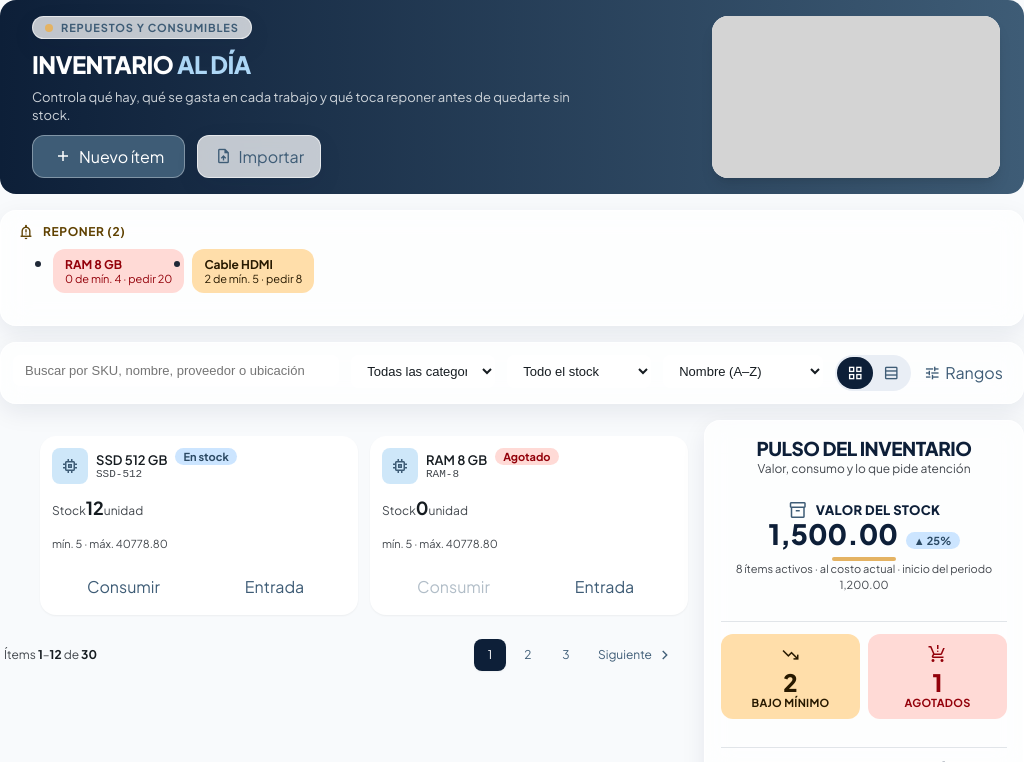
Test case: InventoryComponent › movement form › rejects zero, negative and decimal quantities
This screenshot has width=1024, height=762.
Click the 1st button "Consumir". click: (124, 586)
box: [52, 570, 195, 603]
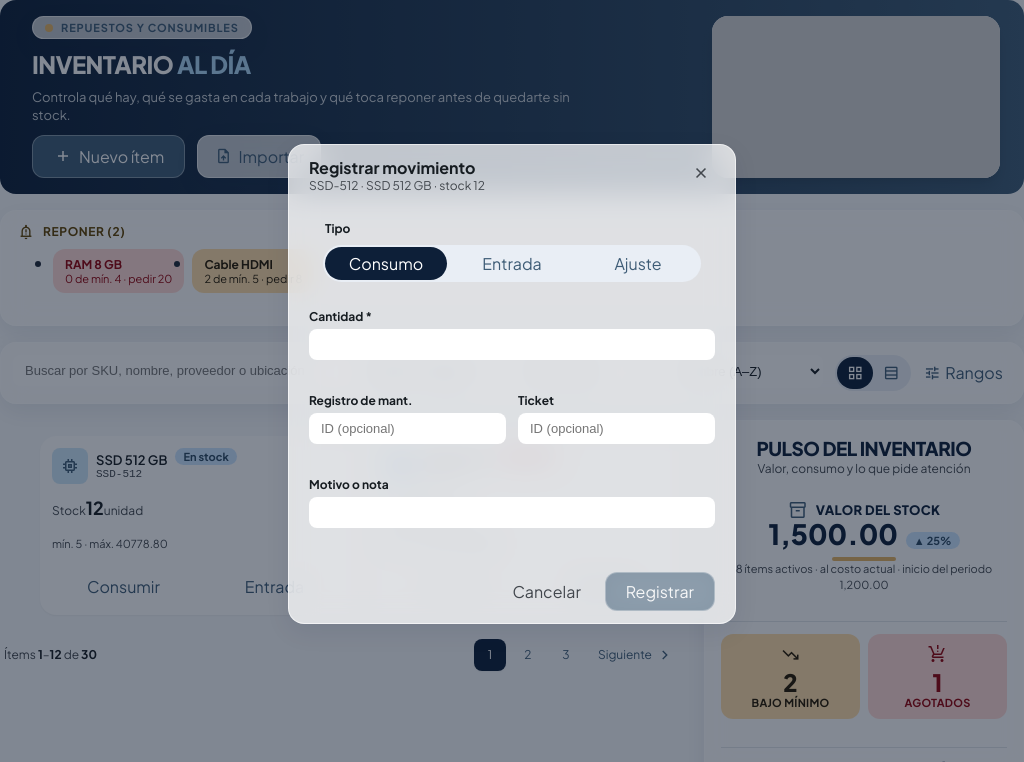
Type "0" into the number field with id "mm-quantity". click: (512, 345)
box: [309, 329, 715, 360]
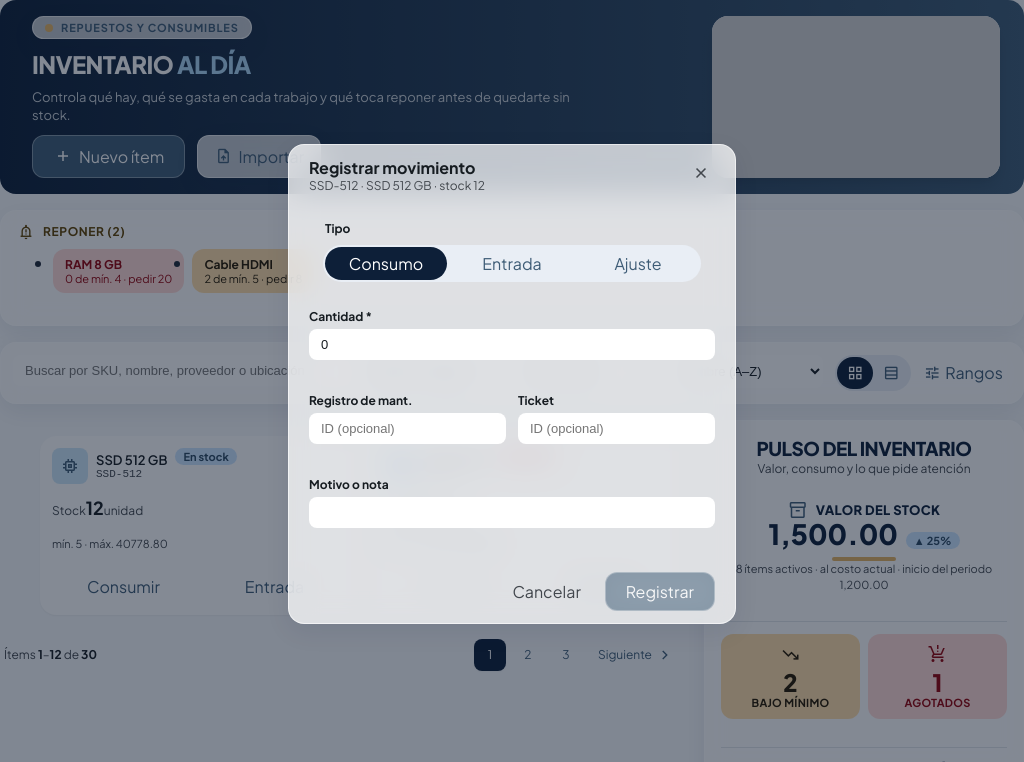
Leave the number field with id "mm-quantity", box [309, 329, 715, 360]
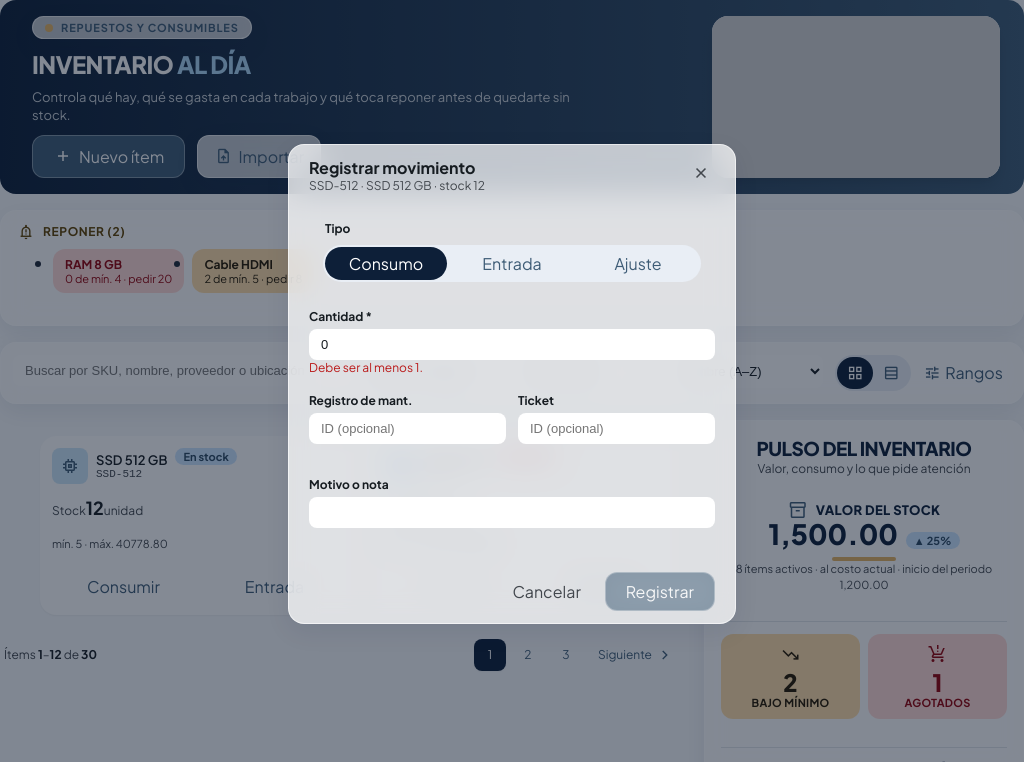
Check: the message "Debe ser al menos 1." is shown, box [309, 360, 423, 375]
Replace the text in the number field with id "mm-quantity" with "-2". click: (512, 345)
box: [309, 329, 715, 360]
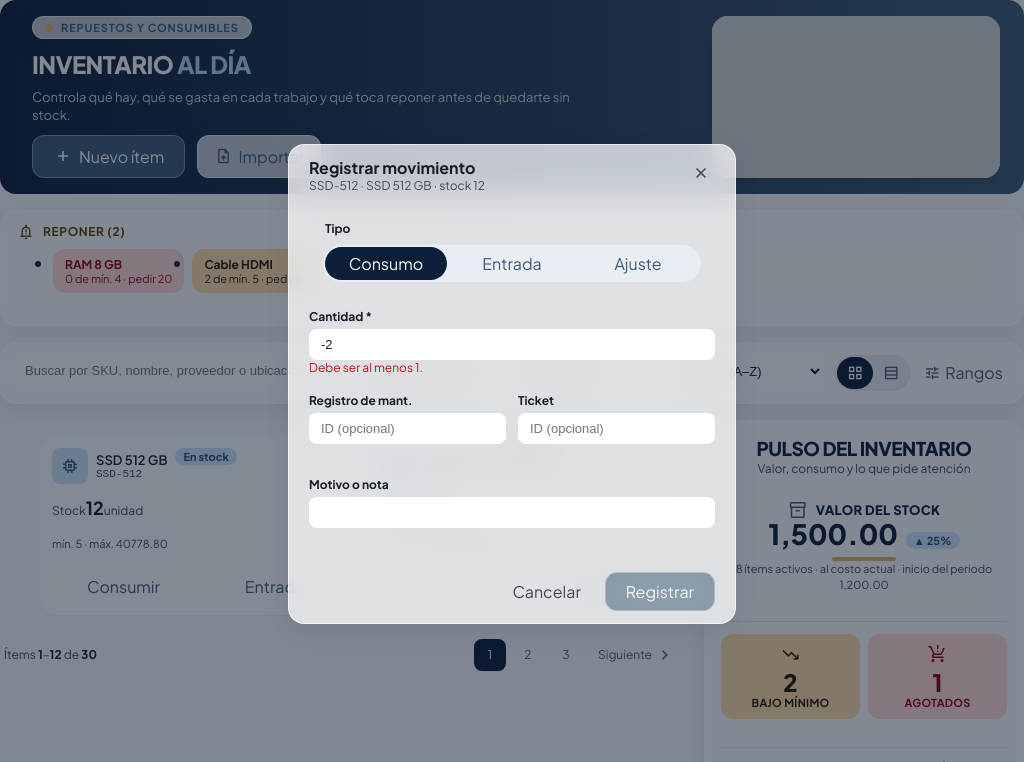
Check: the message "Debe ser al menos 1." is shown, box [309, 360, 423, 375]
Replace the text in the number field with id "mm-quantity" with "1.5". click: (512, 345)
box: [309, 329, 715, 360]
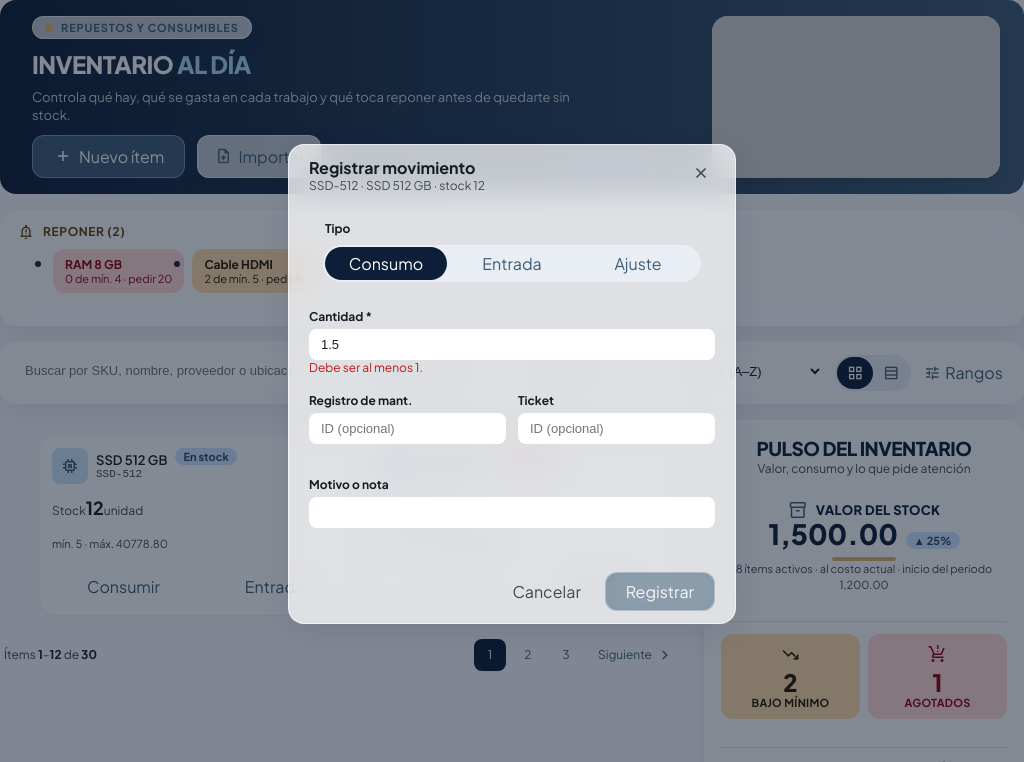
Leave the number field with id "mm-quantity", box [309, 329, 715, 360]
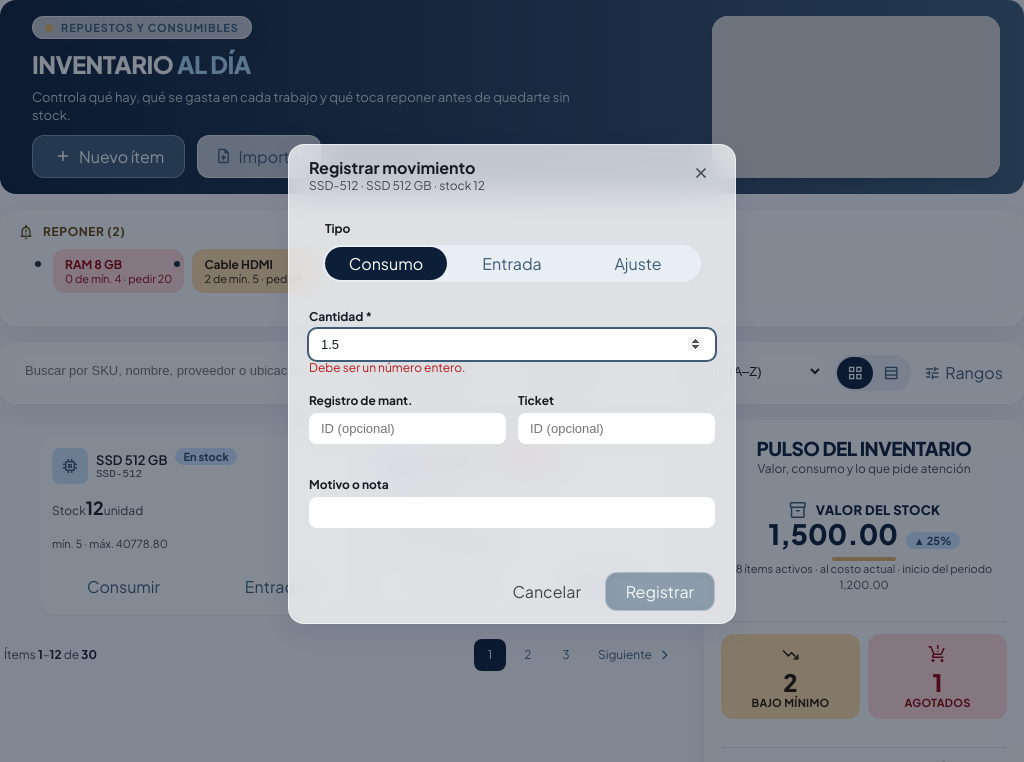
Check: the message "Debe ser un número entero." is shown, box [309, 360, 466, 375]
